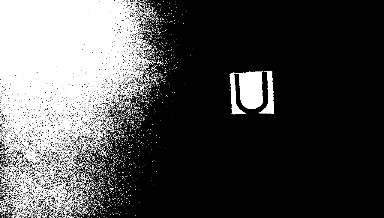U: (228, 71, 271, 112)
